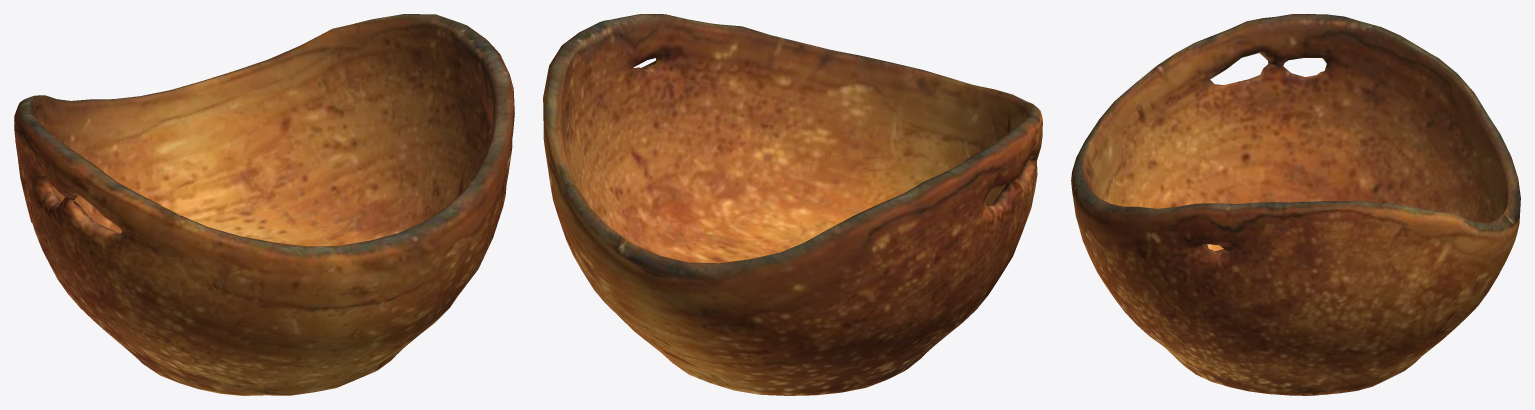
File: wooden_bowl_02.glb
3 views of the same model, side by side, from view 1: azimuth 30°, elevation 25°; view 2: azimuth 150°, elevation 25°; view 3: azimuth 270°, elevation 25° (orthographic). The views are drawn at different scales.
Visible parts, largest first — view 1: wooden_bowl_02; view 2: wooden_bowl_02; view 3: wooden_bowl_02.
Boxes of the visible parts, bbox=[...] form: wooden_bowl_02: bbox=[14, 14, 514, 395]; wooden_bowl_02: bbox=[543, 14, 1042, 395]; wooden_bowl_02: bbox=[1071, 14, 1520, 395].
Bounding box in the file's own units: 0.1307 × 0.0731 × 0.1245.
Materials: 1 (1 with a texture image).
